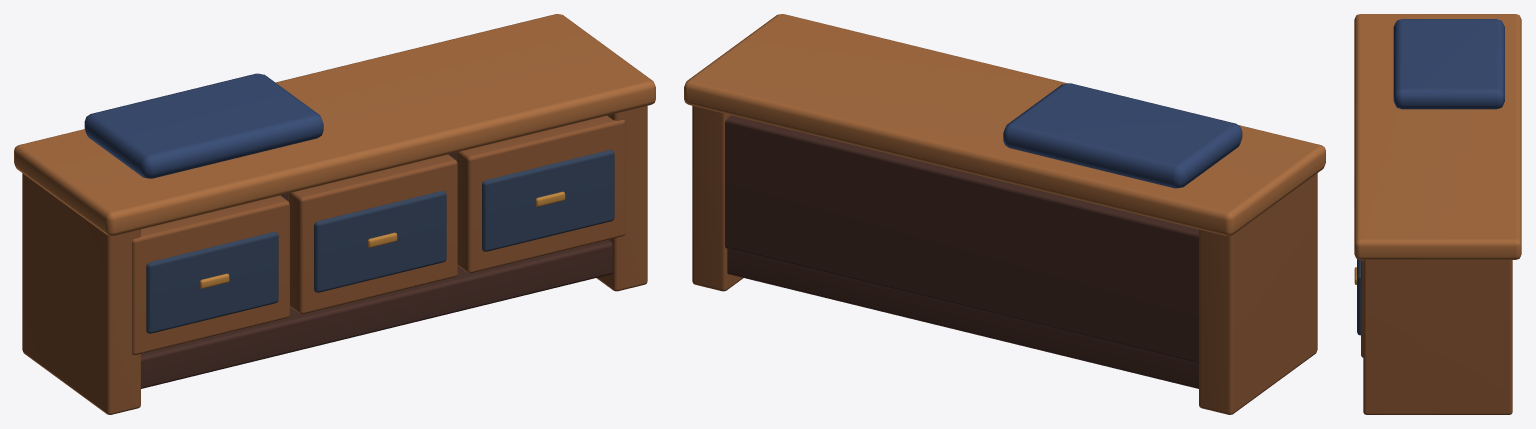
File: entry-bench.glb
The picture shows the model from 3 angles, left to right: view 1: azimuth 30°, elevation 25°; view 2: azimuth 150°, elevation 25°; view 3: azimuth 270°, elevation 25°; orthographic projection. The views are drawn at different scales.
Visible parts, largest first — view 1: entry_bench_placement_Mesh; view 2: entry_bench_placement_Mesh; view 3: entry_bench_placement_Mesh.
Boxes of the visible parts, x1=… form: entry_bench_placement_Mesh: x1=14, y1=14, x2=655, y2=414; entry_bench_placement_Mesh: x1=684, y1=14, x2=1325, y2=414; entry_bench_placement_Mesh: x1=1354, y1=14, x2=1521, y2=414.
Bounding box in the file's own units: 1.3 × 0.5215 × 0.4.
